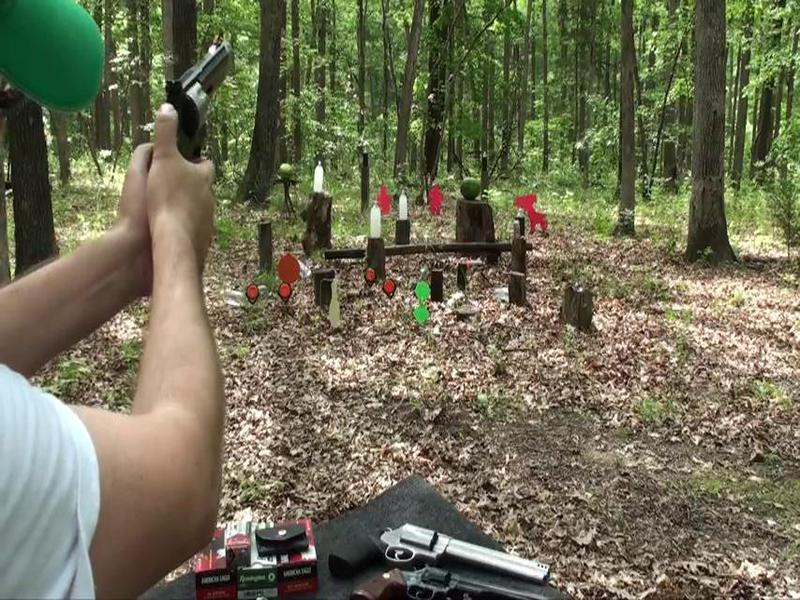Revolver: (139, 41, 246, 203)
